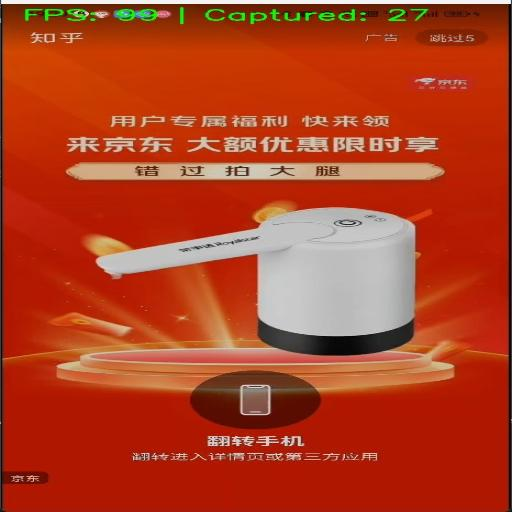close: (412, 30, 488, 48)
